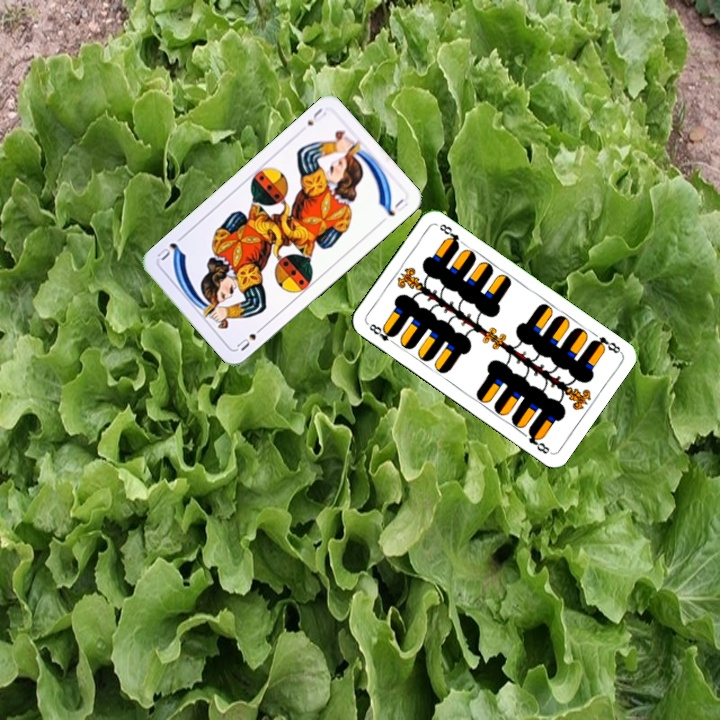E8: (365, 320, 399, 348), (587, 332, 623, 356)
SU: (232, 322, 267, 354), (303, 104, 329, 128)
